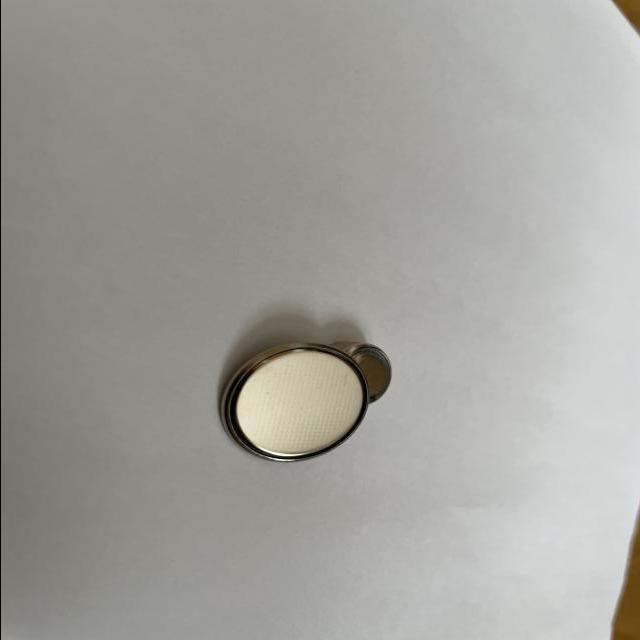COIN: (219, 342, 369, 462), (332, 342, 390, 406)
